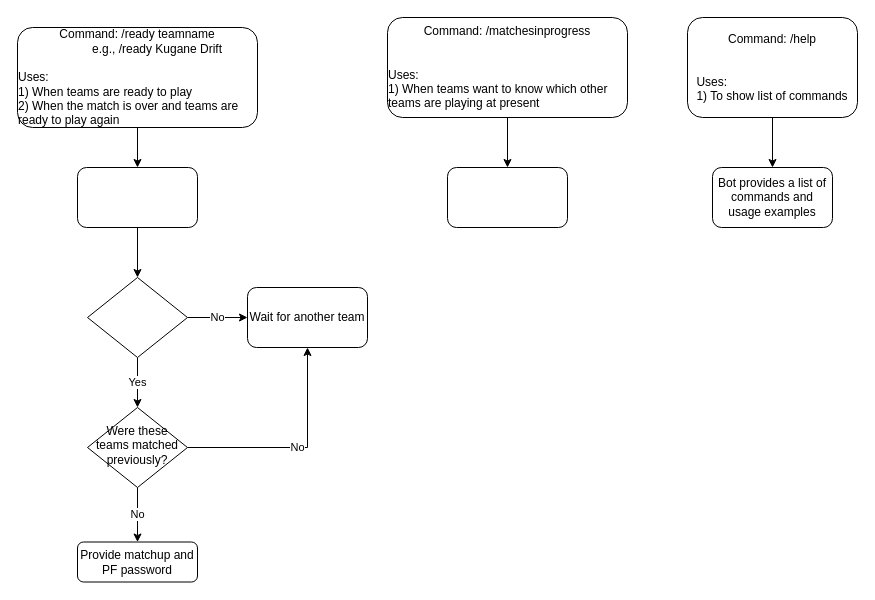
This 875x600 diagram has some shape labels left out. Here are the shapes that lost their labels. From the top down, the centre of each, then its label:
At point 137,197: "Bot adds team to a Ready list".
At point 507,197: "Bot provides a list of matches in progress".
At point 137,317: "Any other team Ready?".
